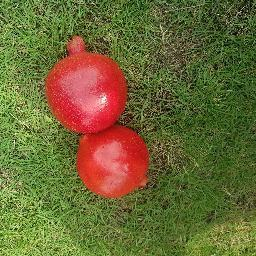Good_pomegranate: (48, 33, 130, 129), (69, 135, 154, 195)
